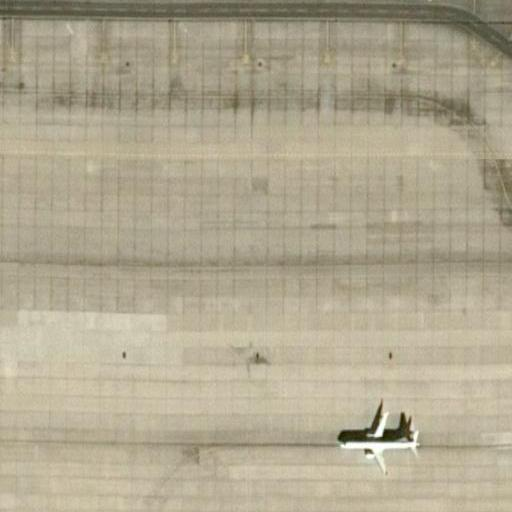Aircraft: (327, 405, 427, 462)
